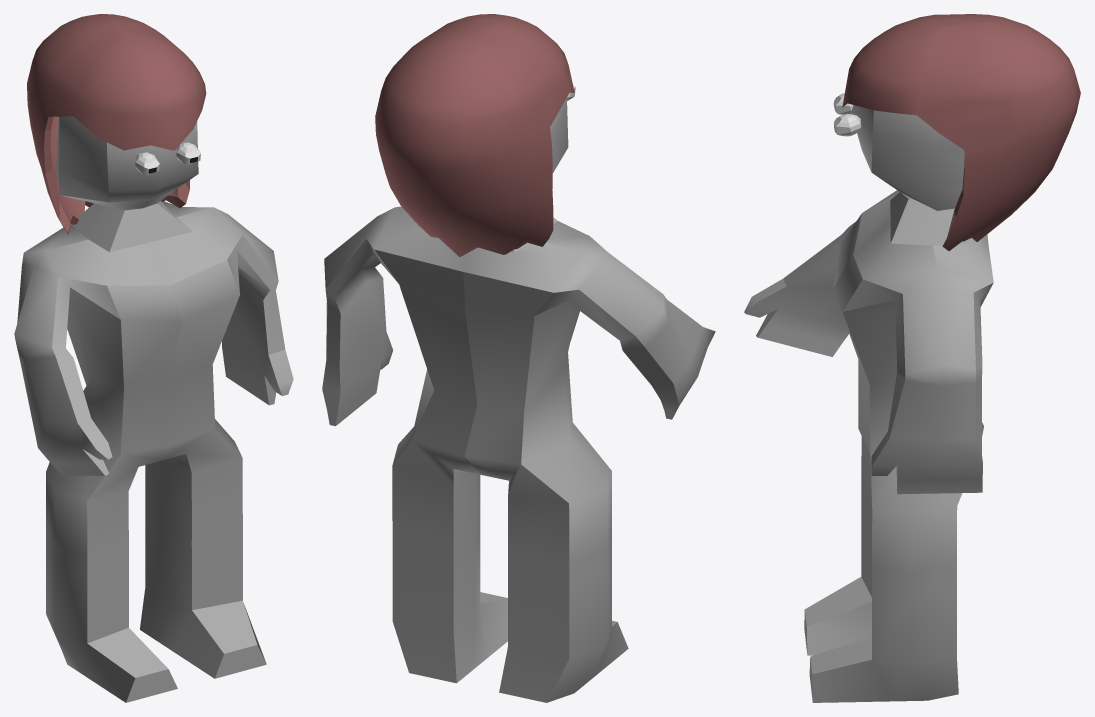
File: Selora.fbx
The picture shows the model from 3 angles, left to right: view 1: azimuth 30°, elevation 25°; view 2: azimuth 150°, elevation 25°; view 3: azimuth 270°, elevation 25°; orthographic projection. The views are drawn at different scales.
Visible parts, largest first — view 1: polySurface4, pSphere7, pSphere18, pSphere17; view 2: polySurface4, pSphere7; view 3: polySurface4, pSphere7, pSphere17.
Boxes of the visible parts, x1=… form: polySurface4: x1=14, y1=116, x2=293, y2=702; pSphere7: x1=27, y1=14, x2=206, y2=235; pSphere18: x1=135, y1=152, x2=159, y2=174; pSphere17: x1=176, y1=142, x2=200, y2=164; polySurface4: x1=322, y1=98, x2=715, y2=702; pSphere7: x1=375, y1=14, x2=574, y2=256; polySurface4: x1=744, y1=105, x2=993, y2=702; pSphere7: x1=842, y1=14, x2=1080, y2=250; pSphere17: x1=833, y1=113, x2=861, y2=136.
Bounding box in the file's own units: 12.03 × 24.38 × 11.62.
